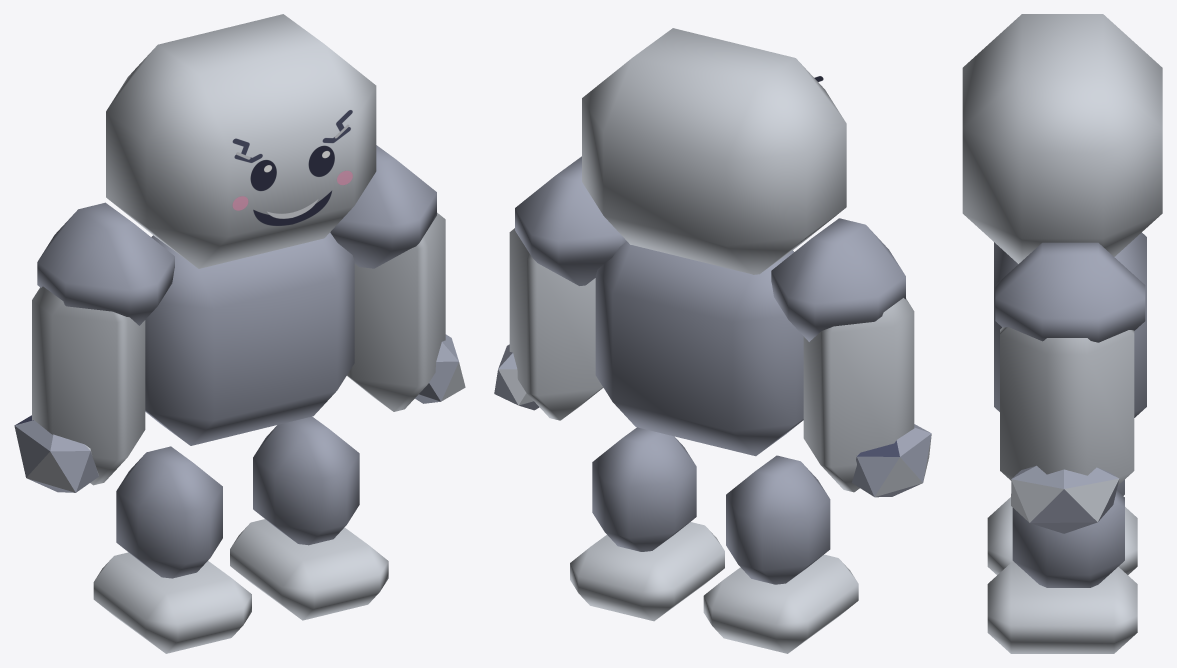
The model's file is golem.glb.
3 views of the same model, side by side, from view 1: azimuth 30°, elevation 25°; view 2: azimuth 150°, elevation 25°; view 3: azimuth 270°, elevation 25° (orthographic). The views are drawn at different scales.
Parts seen in each view (by area): view 1: Golem | head, Golem | body, Golem | left arm, Golem | right arm, Golem | left shoulder, Golem | left leg, Golem | right leg, Golem | left foot, Golem | right foot, Golem | right shoulder, Golem | left elbow stone, Golem friendly face (+1 smaller); view 2: Golem | head, Golem | body, Golem | left arm, Golem | right arm, Golem | left shoulder, Golem | left leg, Golem | right leg, Golem | left foot, Golem | right foot, Golem | right shoulder, Golem | left elbow stone, Golem | right elbow stone; view 3: Golem | head, Golem | right arm, Golem | right shoulder, Golem | right foot, Golem | right leg, Golem | right elbow stone, Golem | body, Golem | left foot.
Part boxes in pixels (<box>): Golem | head: <box>106,14,376,268</box>; Golem | body: <box>145,232,354,445</box>; Golem | left arm: <box>32,286,145,485</box>; Golem | right arm: <box>347,212,445,411</box>; Golem | left shoulder: <box>37,202,174,325</box>; Golem | left leg: <box>116,446,222,578</box>; Golem | right leg: <box>253,416,359,545</box>; Golem | left foot: <box>93,552,251,653</box>; Golem | right foot: <box>230,519,388,620</box>; Golem | right shoulder: <box>330,145,436,268</box>; Golem | left elbow stone: <box>14,415,98,492</box>; Golem friendly face: <box>232,110,352,225</box>; Golem | head: <box>582,28,846,274</box>; Golem | body: <box>595,241,803,456</box>; Golem | left arm: <box>803,298,914,492</box>; Golem | right arm: <box>509,228,603,420</box>; Golem | left shoulder: <box>771,218,905,341</box>; Golem | left leg: <box>726,455,830,584</box>; Golem | right leg: <box>592,427,696,551</box>; Golem | left foot: <box>703,554,858,653</box>; Golem | right foot: <box>570,522,724,621</box>; Golem | right shoulder: <box>515,156,626,285</box>; Golem | left elbow stone: <box>852,424,931,497</box>; Golem | right elbow stone: <box>494,344,539,410</box>; Golem | head: <box>962,14,1162,263</box>; Golem | right arm: <box>1000,327,1134,485</box>; Golem | right shoulder: <box>995,242,1145,342</box>; Golem | right foot: <box>987,562,1137,653</box>; Golem | right leg: <box>1012,490,1124,587</box>; Golem | right elbow stone: <box>1011,465,1119,533</box>; Golem | body: <box>994,232,1146,417</box>; Golem | left foot: <box>987,497,1137,574</box>.
Size of the model in its own units: 1.56 by 1.98 by 0.647.
5 materials, 1 textured.
